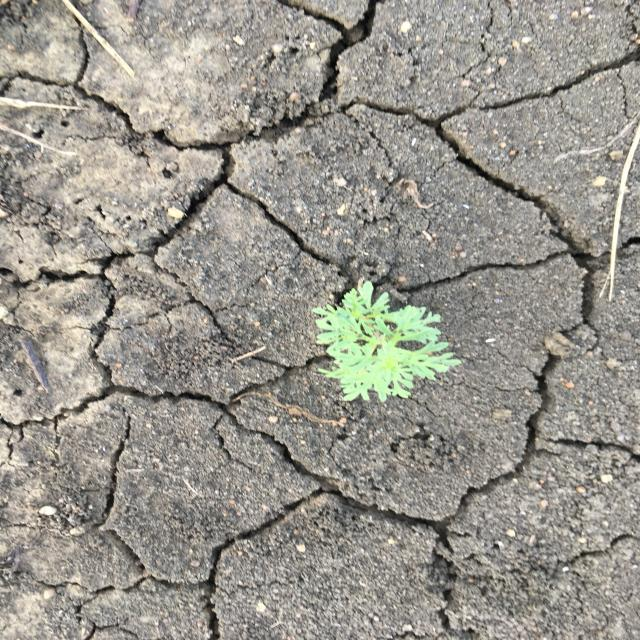Ragweed: (309, 274, 464, 404)
